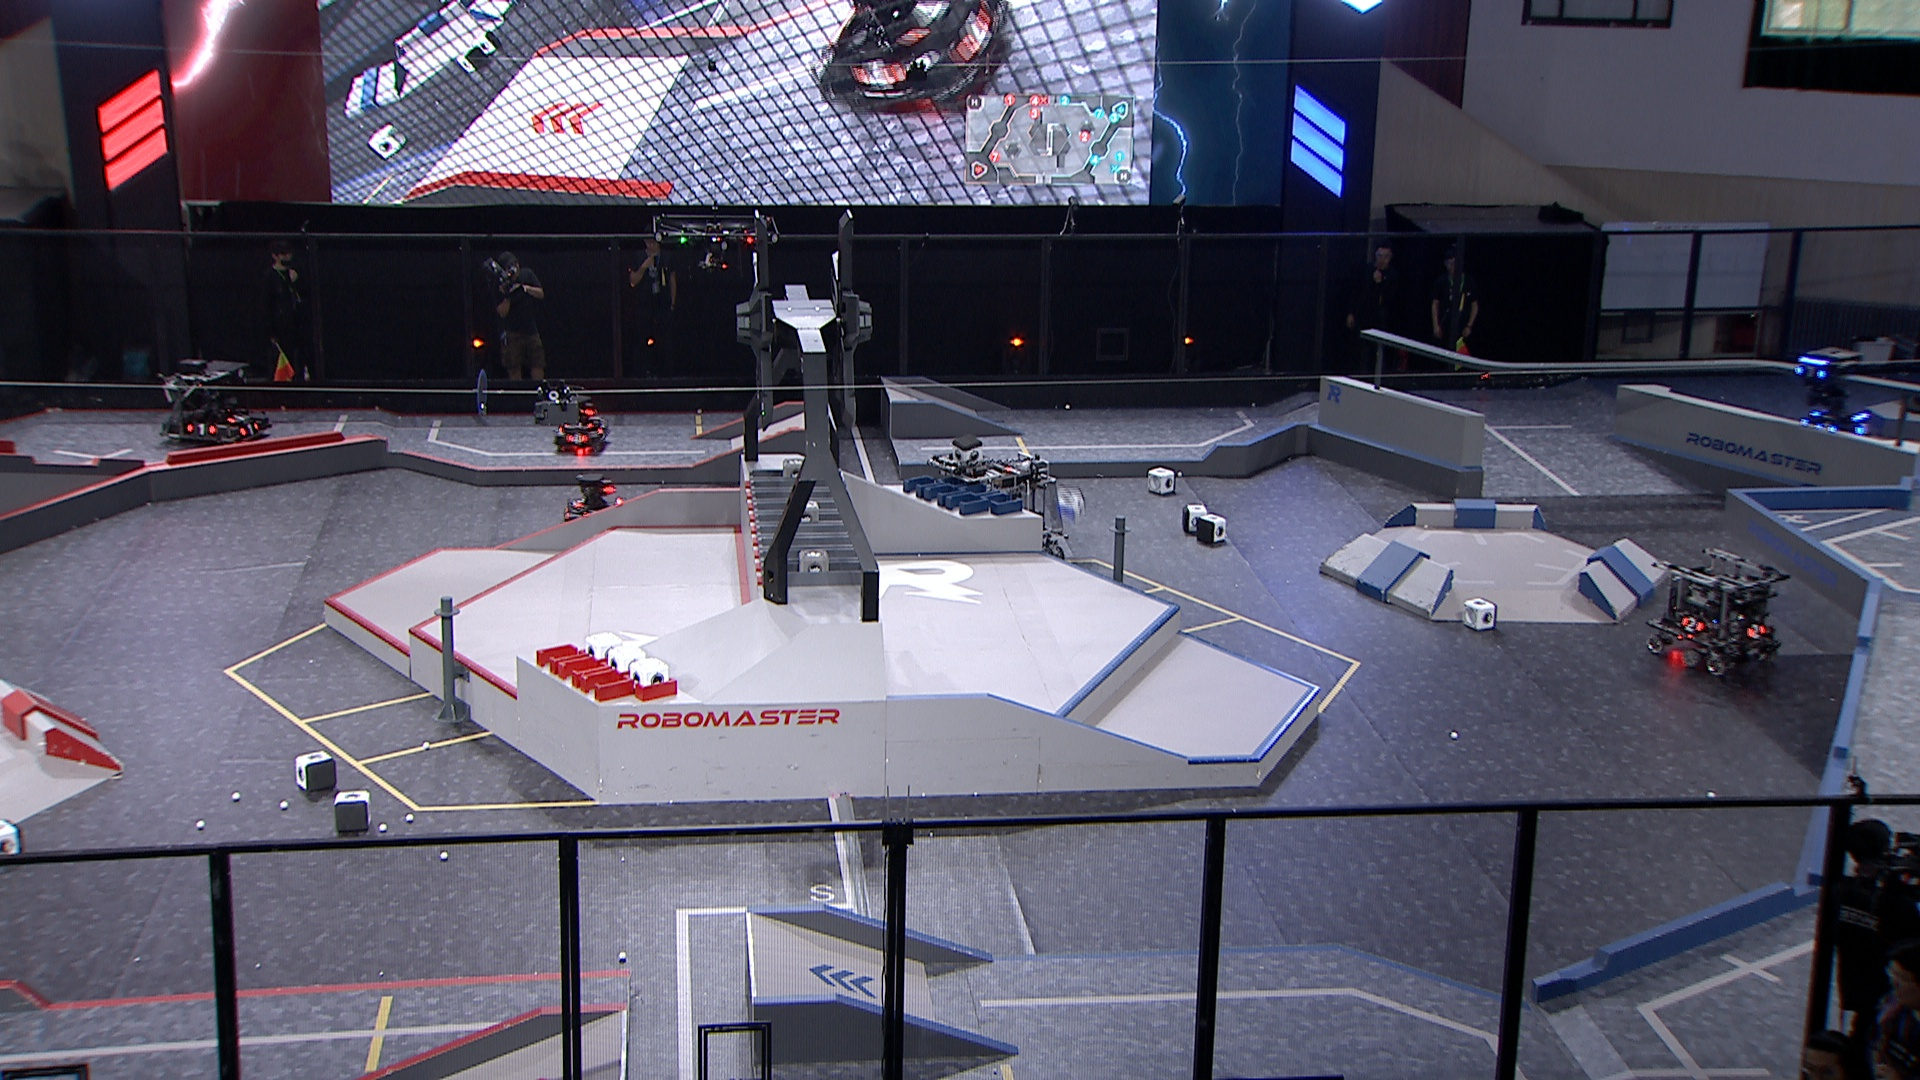armor: (1795, 365, 1828, 384), (185, 419, 218, 438), (1680, 615, 1705, 636), (237, 419, 262, 436), (1747, 622, 1766, 641), (225, 413, 253, 425), (566, 433, 589, 446), (1815, 422, 1840, 434), (1855, 422, 1873, 436), (572, 496, 588, 510)
car: (1644, 546, 1789, 680), (935, 455, 1072, 572), (160, 357, 273, 443), (560, 469, 626, 537), (1801, 392, 1876, 450), (553, 392, 612, 454)
ignore: (818, 0, 1007, 113)
watcher: (1793, 345, 1869, 417)
